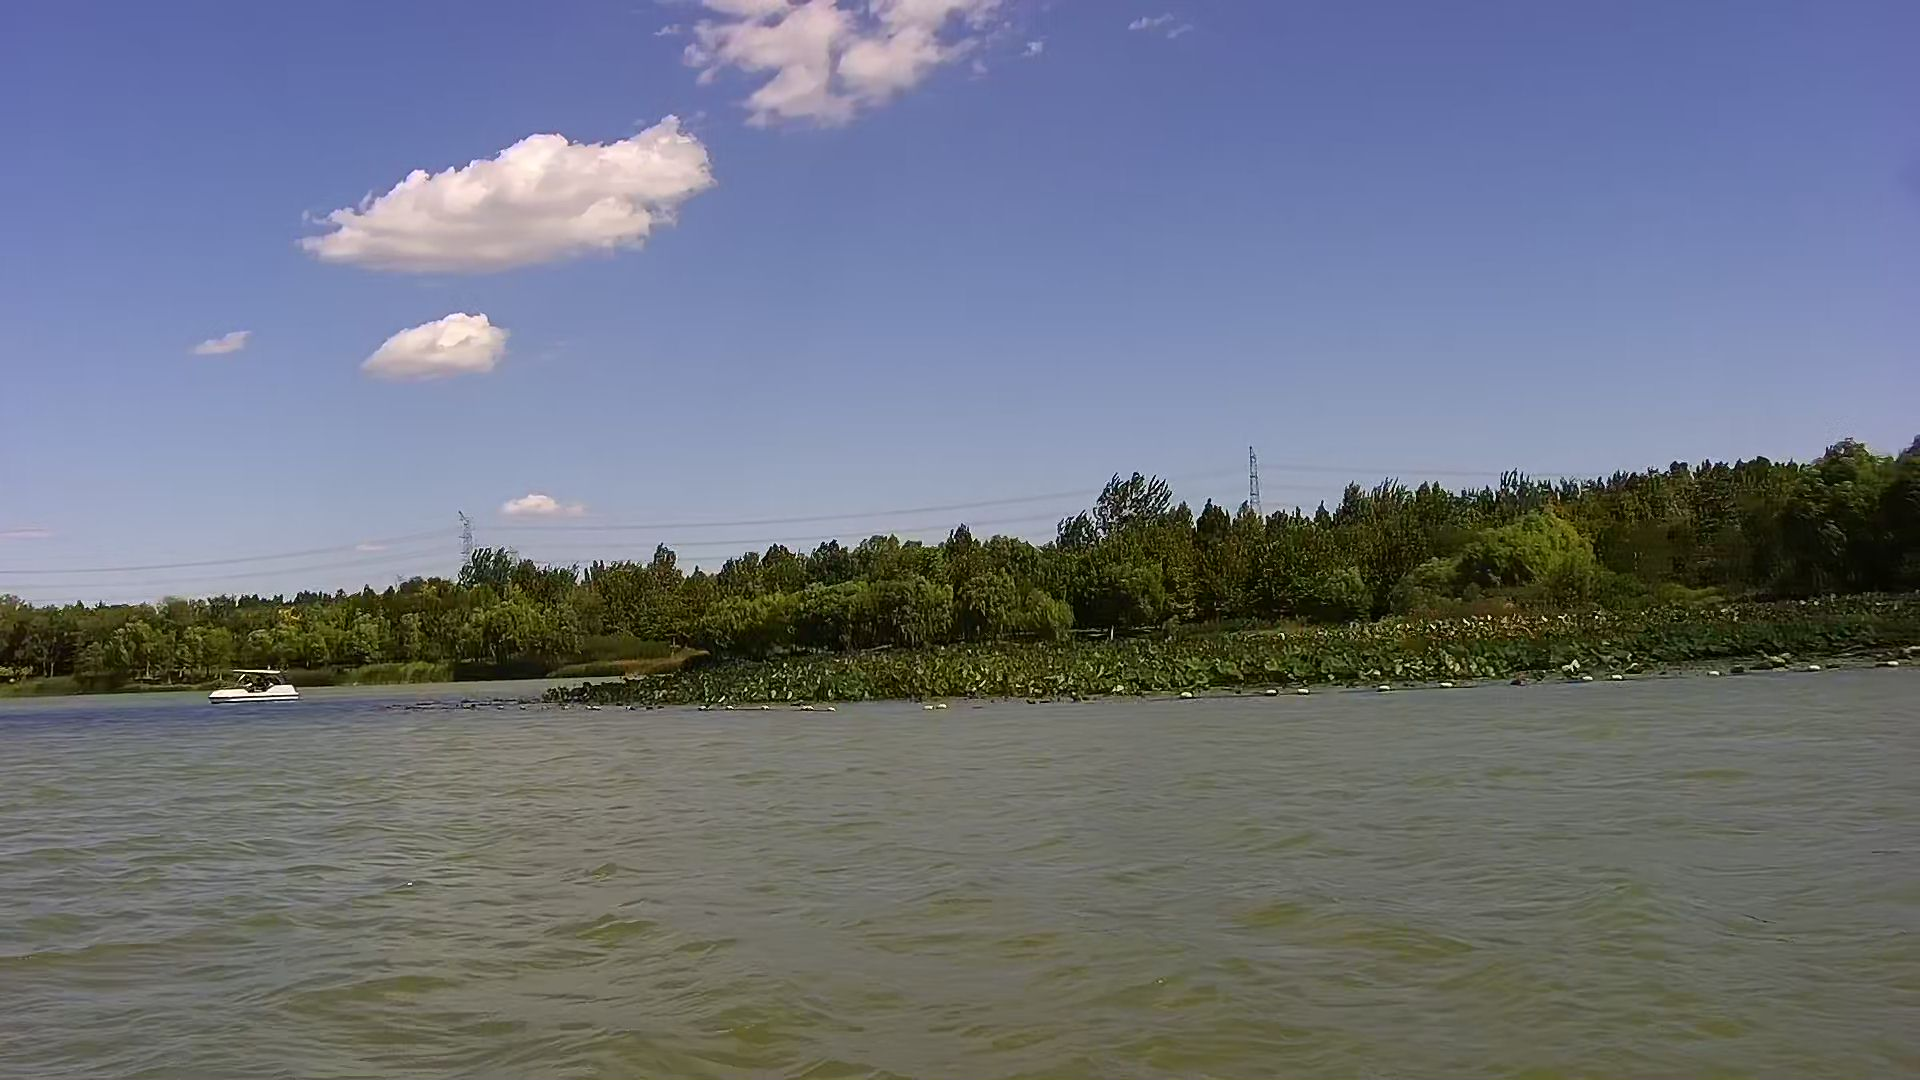boat: (200, 661, 313, 711)
